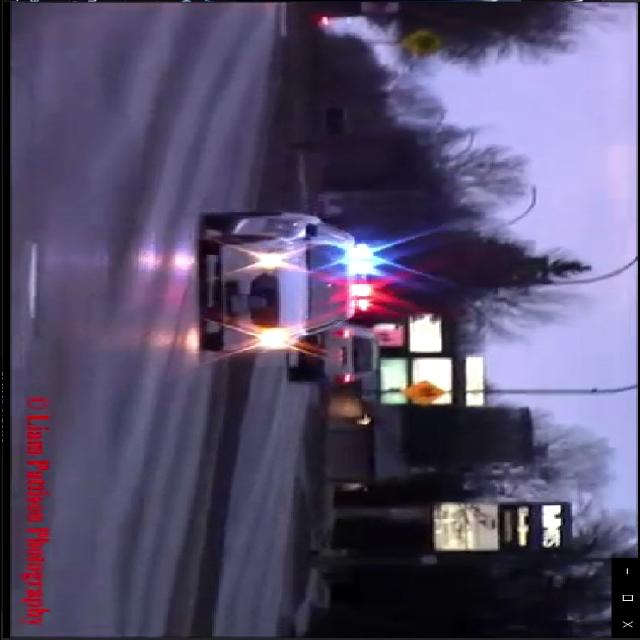emergency: (200, 212, 402, 360)
